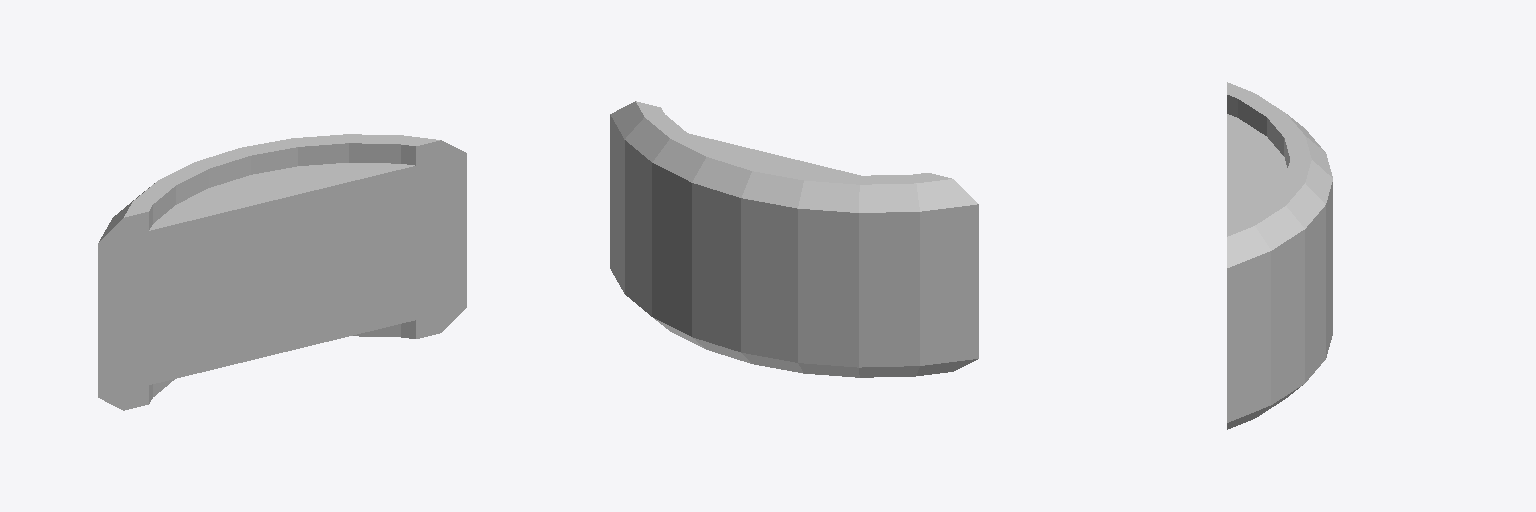
File: block-snow-curve-low.obj
3 views of the same model, side by side, from view 1: azimuth 30°, elevation 25°; view 2: azimuth 150°, elevation 25°; view 3: azimuth 270°, elevation 25° (orthographic).
Visible parts, largest first — view 1: block-snow-curve-low; view 2: block-snow-curve-low; view 3: block-snow-curve-low.
Part boxes in pixels (bbox=[...]): block-snow-curve-low: bbox=[98, 134, 466, 410]; block-snow-curve-low: bbox=[610, 101, 978, 377]; block-snow-curve-low: bbox=[1227, 82, 1332, 429].
Size of the model in its own units: 2 by 1 by 0.5.